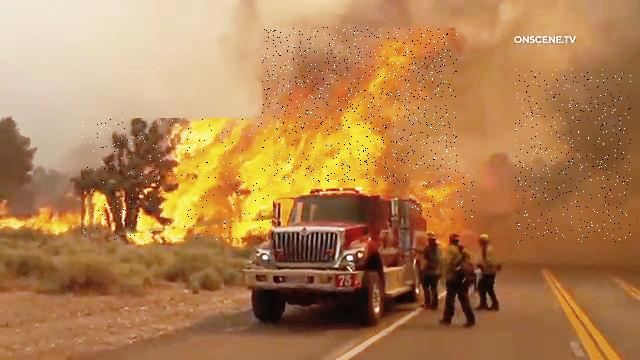fire: (262, 28, 457, 185), (82, 119, 276, 241), (410, 173, 477, 221)
smoke: (516, 70, 632, 244)
